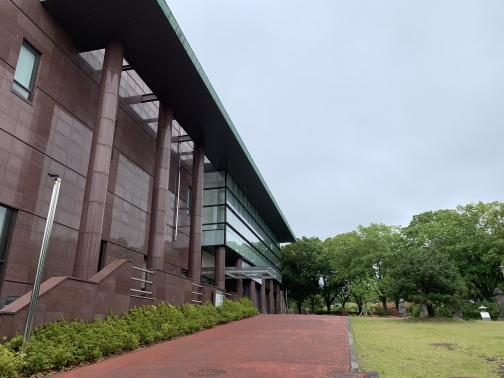Museum: (31, 11, 304, 374)
